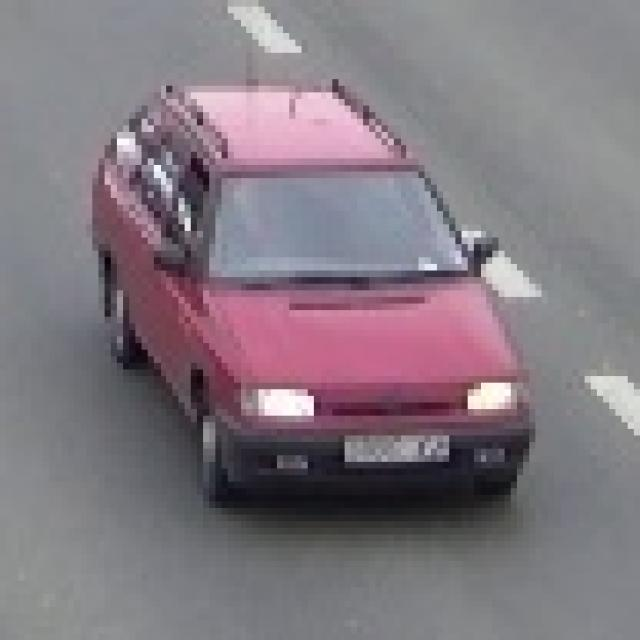maroon: (97, 84, 532, 503)
